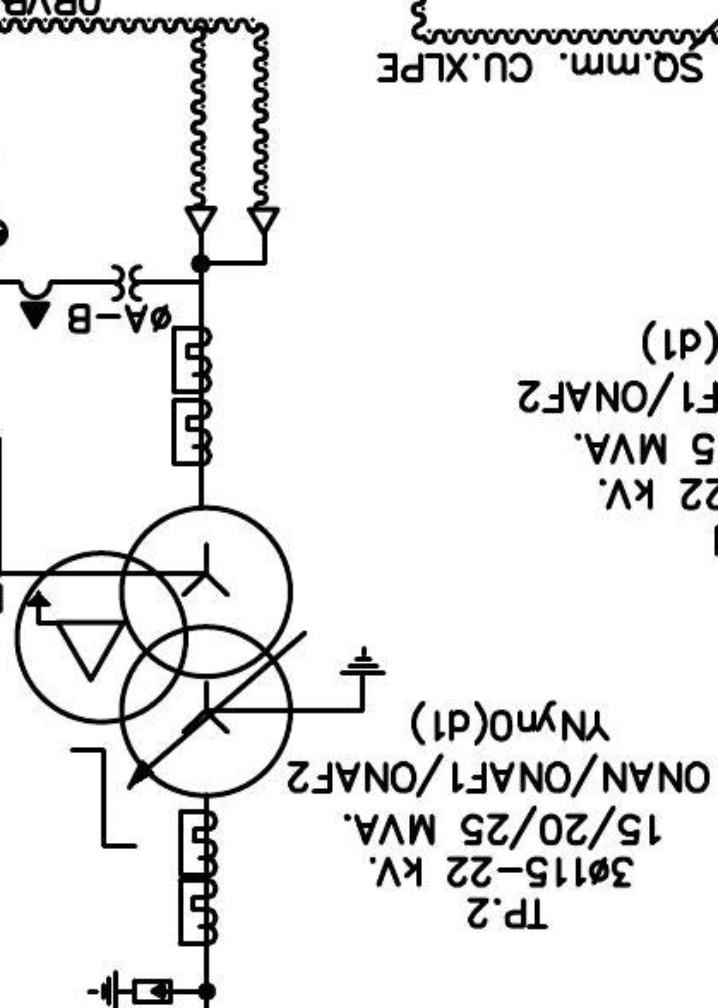11522_tx_ynyn0d1: (13, 503, 295, 800)
terminator_double: (183, 205, 282, 267)
